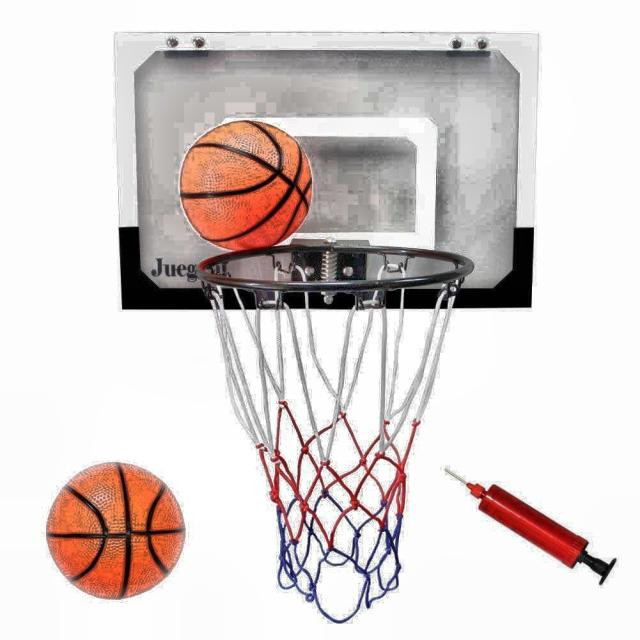board: (47, 459, 188, 600), (180, 119, 314, 251)
rim: (198, 249, 472, 602)
